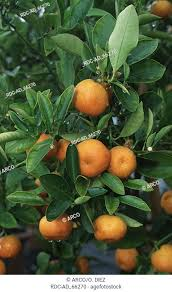orange: (69, 135, 113, 174), (70, 79, 109, 116), (108, 143, 139, 178), (38, 213, 74, 240), (93, 213, 128, 240), (29, 133, 58, 159)
